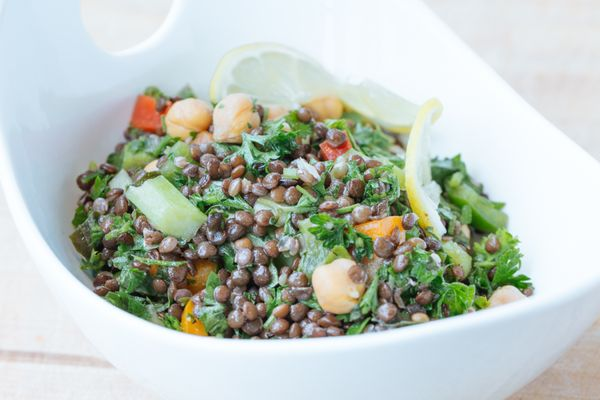sushi: (17, 43, 592, 384)
